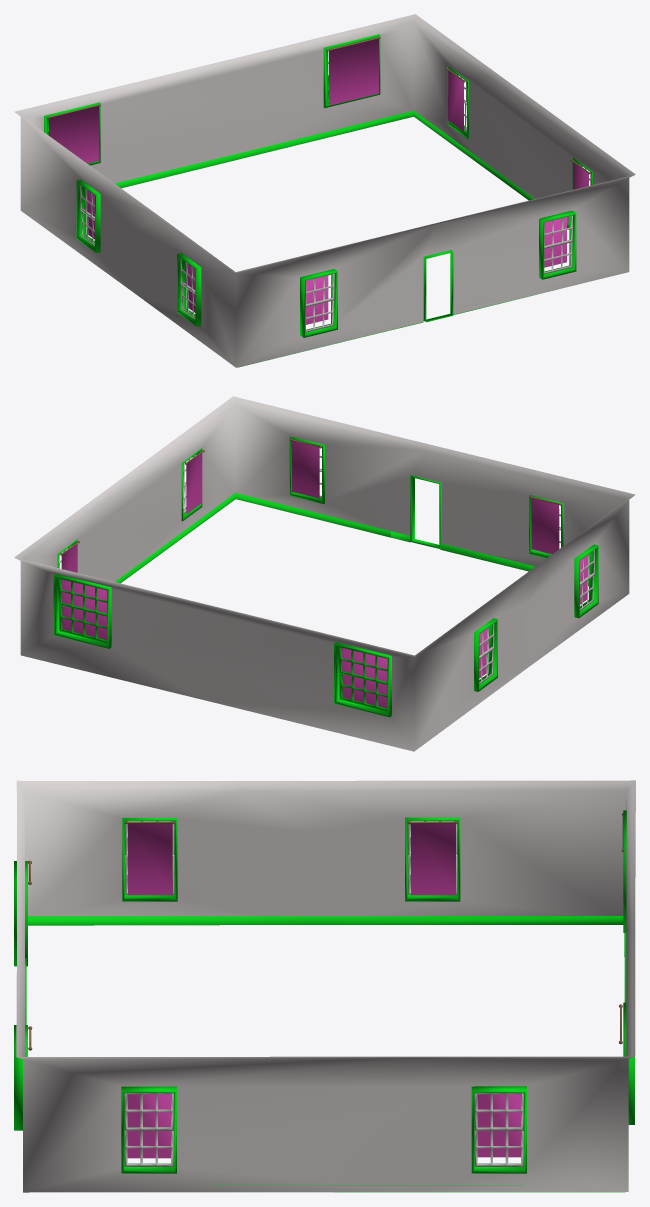
The model's file is walls.fbx.
3 renders of one model, top to bottom at view 1: azimuth 30°, elevation 25°; view 2: azimuth 150°, elevation 25°; view 3: azimuth 270°, elevation 25°, orthographic. The views are drawn at different scales.
Visible parts, largest first — view 1: LowerBlock; view 2: LowerBlock; view 3: LowerBlock.
Part boxes in pixels (box(x1,y1,x2,y2)): LowerBlock: box(14, 14, 635, 367); LowerBlock: box(14, 396, 635, 751); LowerBlock: box(14, 780, 635, 1192).
Bounding box in the file's own units: 2043 × 480 × 1931.
